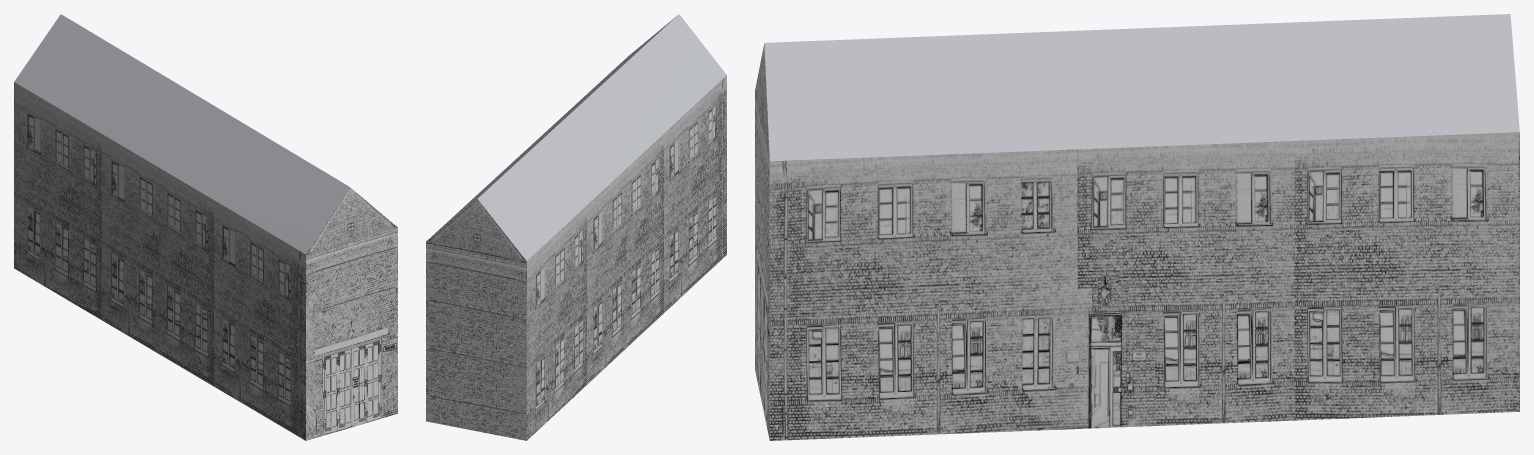
Rendered from Technische_Leitzentrale.gltf.
3 views of the same model, side by side, from view 1: azimuth 30°, elevation 25°; view 2: azimuth 150°, elevation 25°; view 3: azimuth 270°, elevation 25° (orthographic). The views are drawn at different scales.
Parts seen in each view (by area): view 1: Dach.1; view 2: Dach.1; view 3: Dach.1.
Boxes of the visible parts, x1,y1,x2,y2 form: Dach.1: (14, 14, 397, 440); Dach.1: (426, 14, 726, 440); Dach.1: (755, 14, 1519, 440).
Bounding box in the file's own units: 9.1 × 15.06 × 28.91.
Materials: 6 (5 with a texture image).
